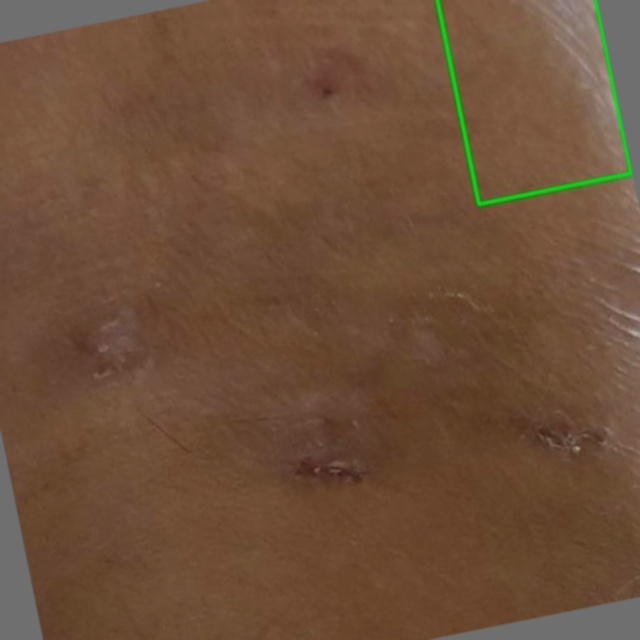Contact Dermatitis: (437, 0, 631, 204)
